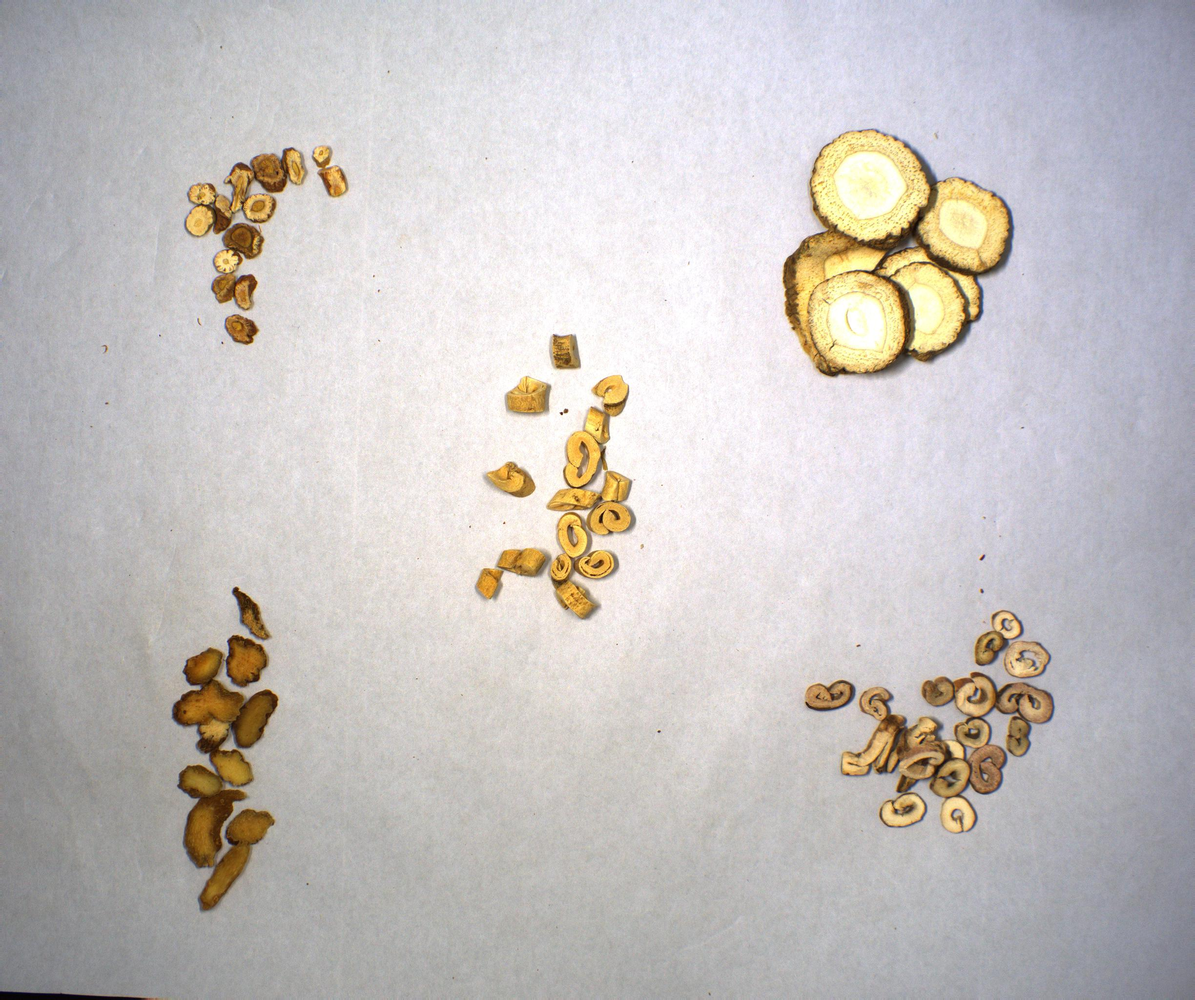baixianpi: (479, 333, 637, 623)
baizhi: (780, 126, 1015, 381)
banlangen: (179, 144, 354, 350)
mudanpi: (804, 611, 1055, 836)
yuzhu: (174, 584, 281, 912)
